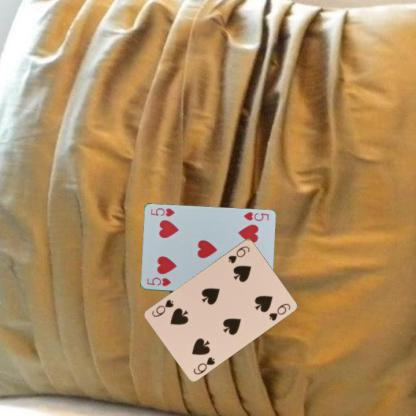5h: (241, 209, 270, 223), (145, 275, 172, 288)
6s: (226, 243, 252, 265), (191, 354, 216, 376)
